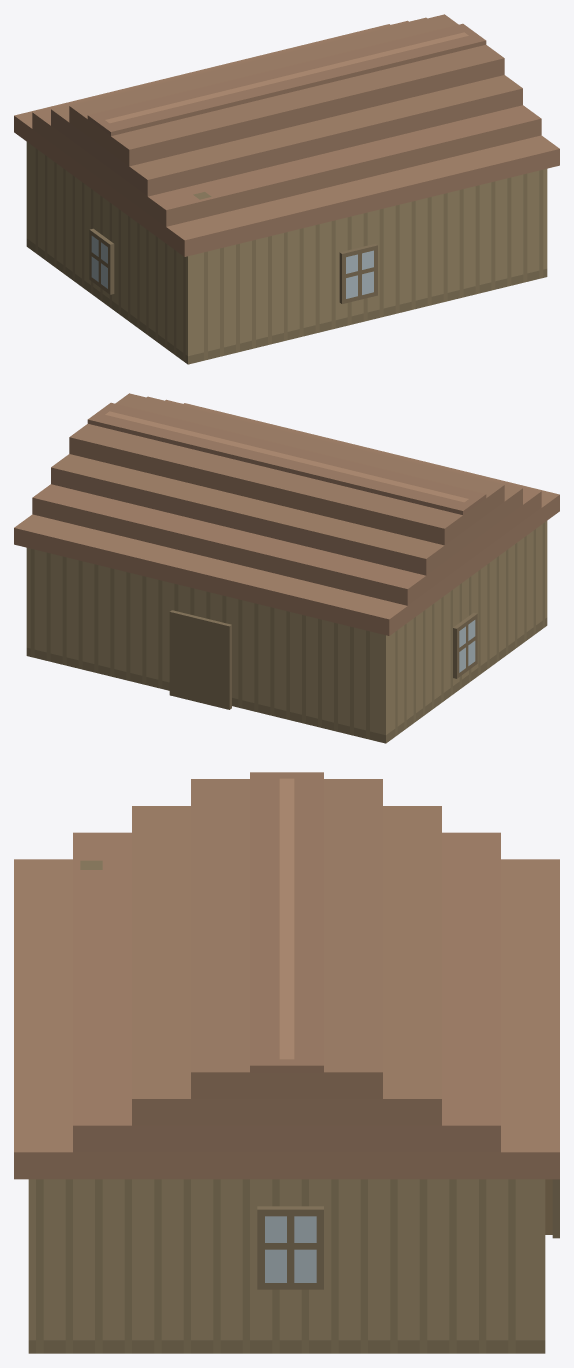
The model's file is planta_curtido_03.glb.
3 renders of one model, top to bottom at view 1: azimuth 30°, elevation 25°; view 2: azimuth 150°, elevation 25°; view 3: azimuth 270°, elevation 25°, orthographic. The views are drawn at different scales.
Parts seen in each view (by area): view 1: planta_curtido_03; view 2: planta_curtido_03; view 3: planta_curtido_03.
Boxes of the visible parts, <box> form: planta_curtido_03: <box>14,14,559,364</box>; planta_curtido_03: <box>14,393,559,743</box>; planta_curtido_03: <box>14,772,559,1353</box>.
Bounding box in the file's own units: 9.4 × 4.4 × 7.4.
